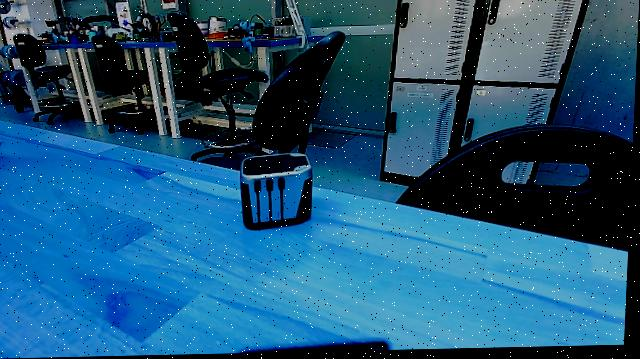adapter: (233, 148, 321, 236)
